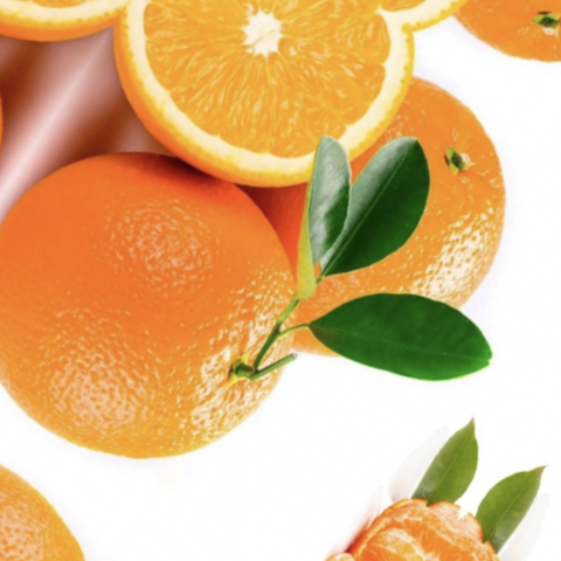orange: (0, 63, 396, 551), (133, 0, 561, 446)
